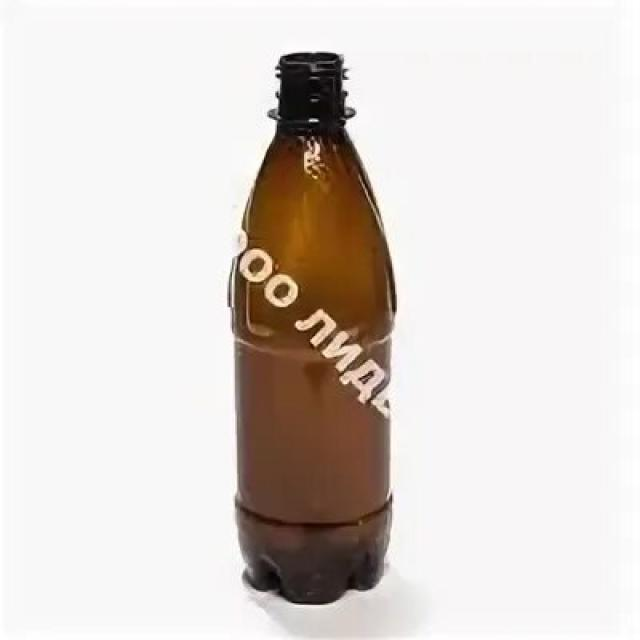brown: (229, 48, 397, 605)
